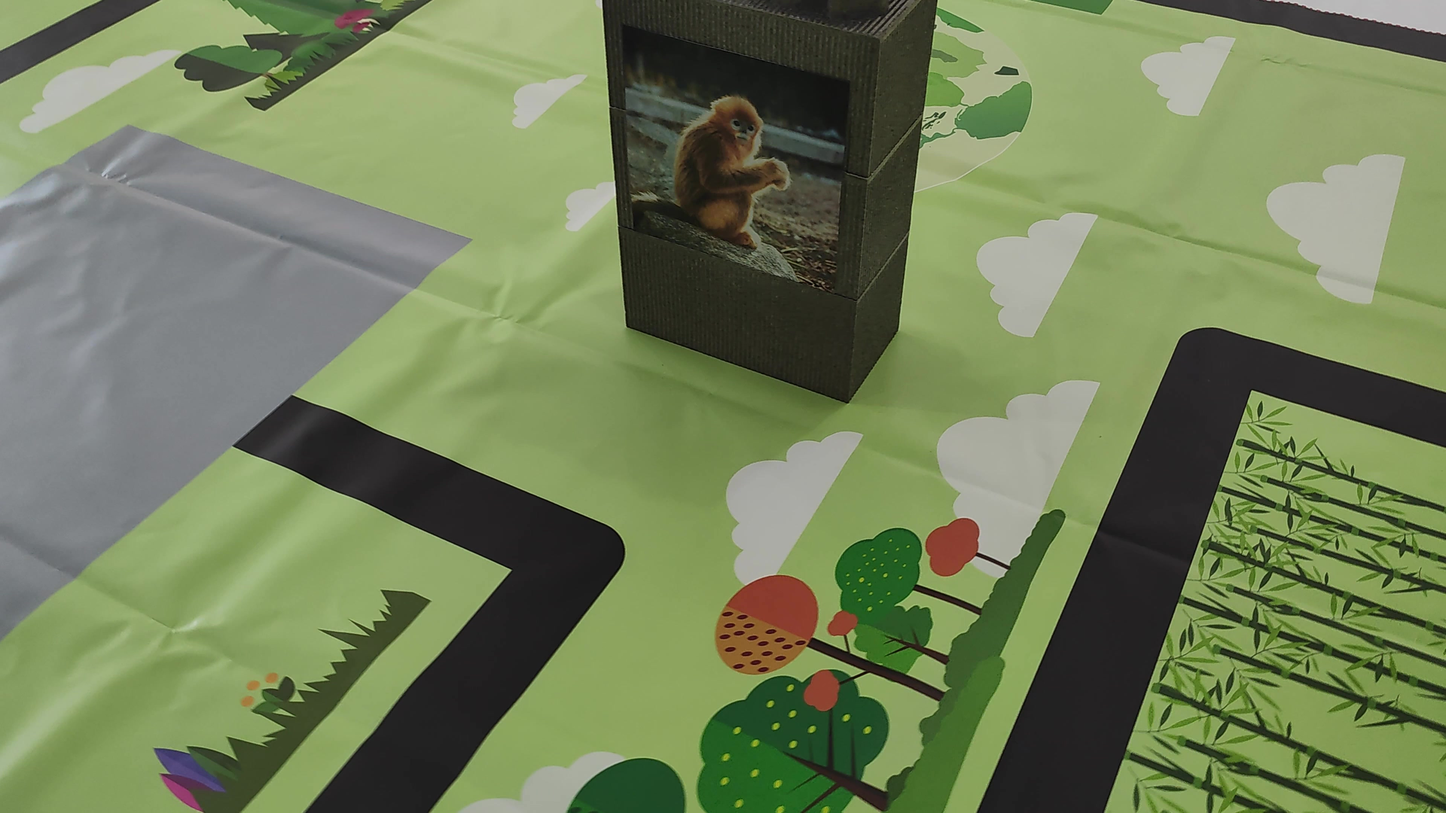monkey: (623, 78, 804, 265)
